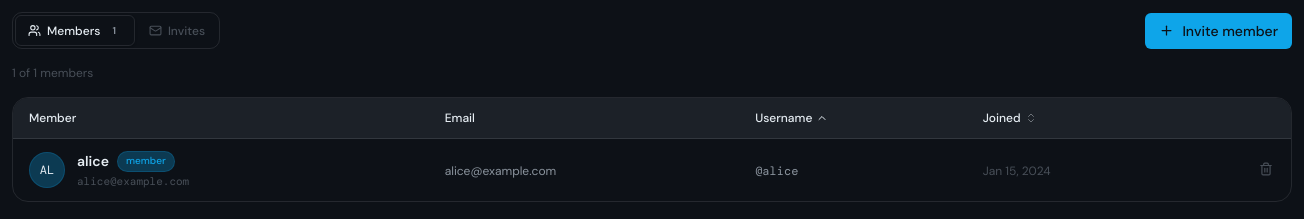
it: MembersTab › invites tab › shows invites loading state
Click the button "Invites" at (177, 31), box [137,17,217,45]
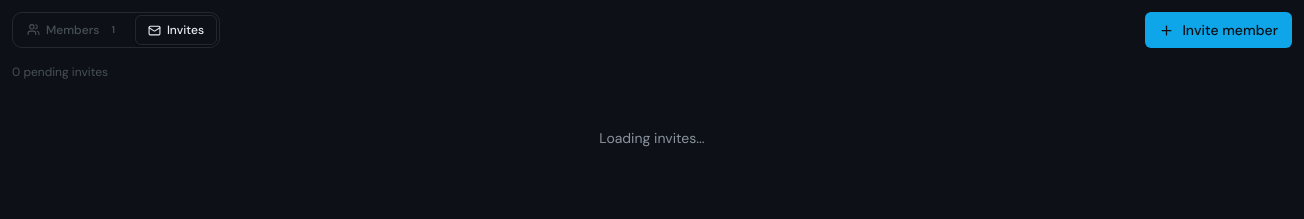
Now the text "Loading invites..." is shown, box [599,129,705,147]
